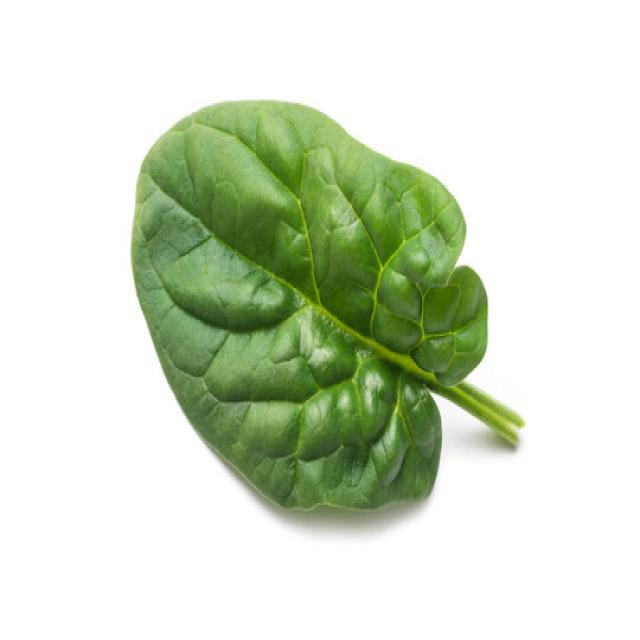Spinach: (129, 96, 525, 514)
